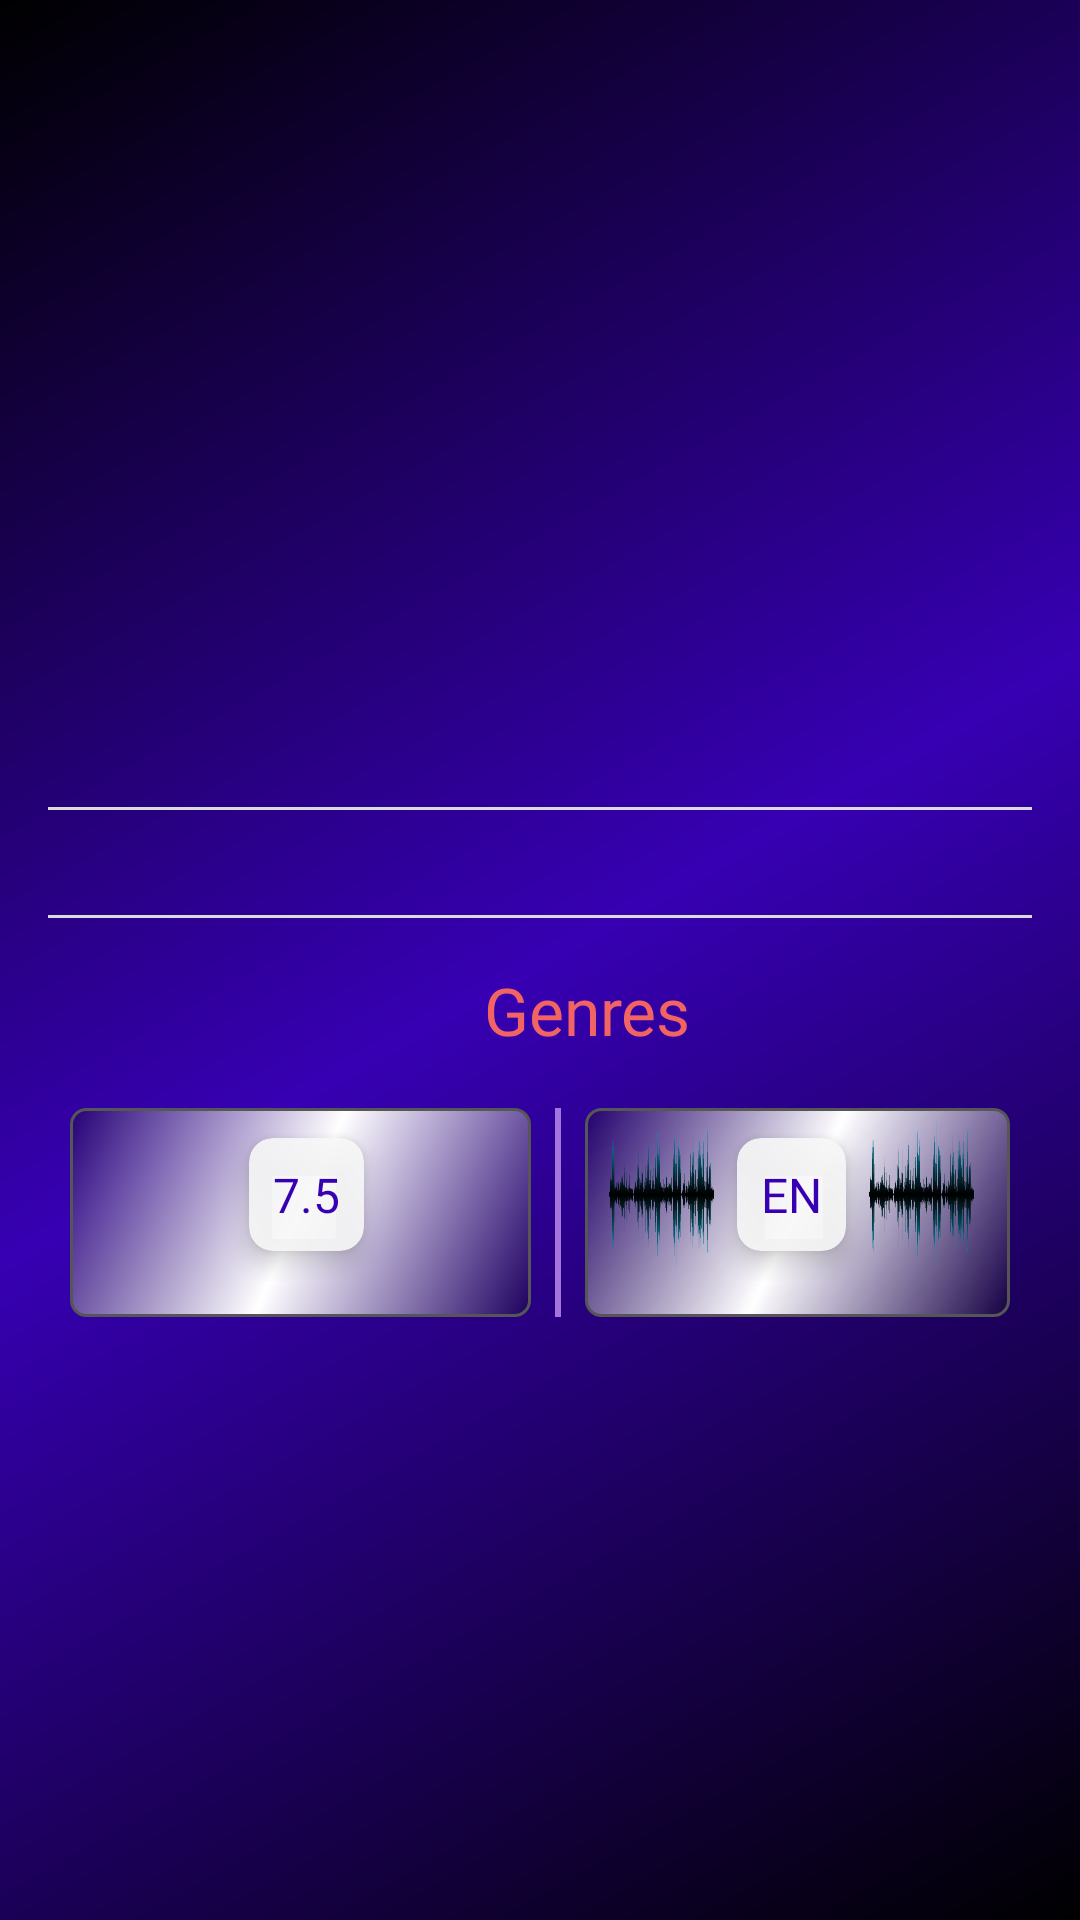

Where to tap for icons on this 1080x1920 app screen, as point (x, y):
sound: point (661, 1194), point (921, 1194)
